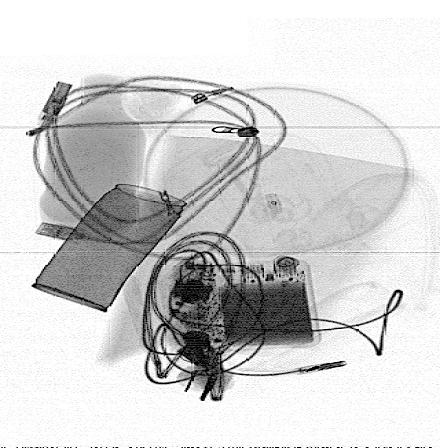Powerbank: (213, 261, 324, 352)
